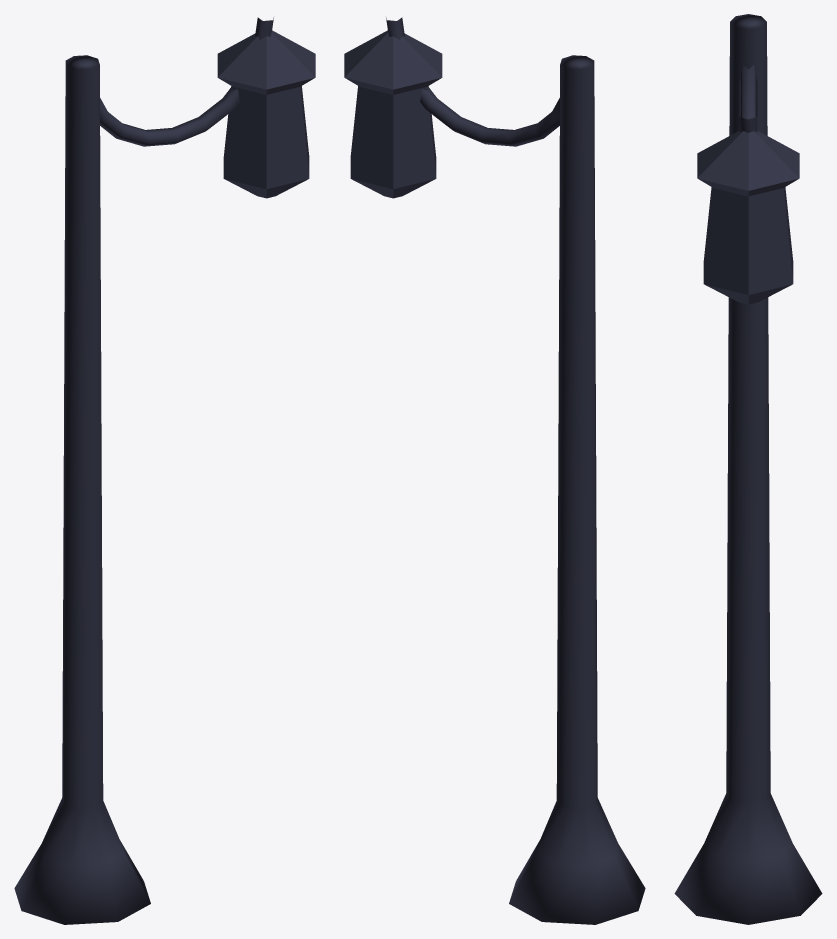
The model's file is street_lamp.glb.
The picture shows the model from 3 angles, left to right: view 1: azimuth 30°, elevation 25°; view 2: azimuth 150°, elevation 25°; view 3: azimuth 270°, elevation 25°; orthographic projection. The views are drawn at different scales.
Visible parts, largest first — view 1: street_lamp; view 2: street_lamp; view 3: street_lamp.
Part boxes in pixels (x1=…): street_lamp: x1=14, y1=17, x2=315, y2=924; street_lamp: x1=344, y1=17, x2=645, y2=924; street_lamp: x1=674, y1=14, x2=822, y2=924.
Bounding box in the file's own units: 0.96 × 2.6 × 0.4.
